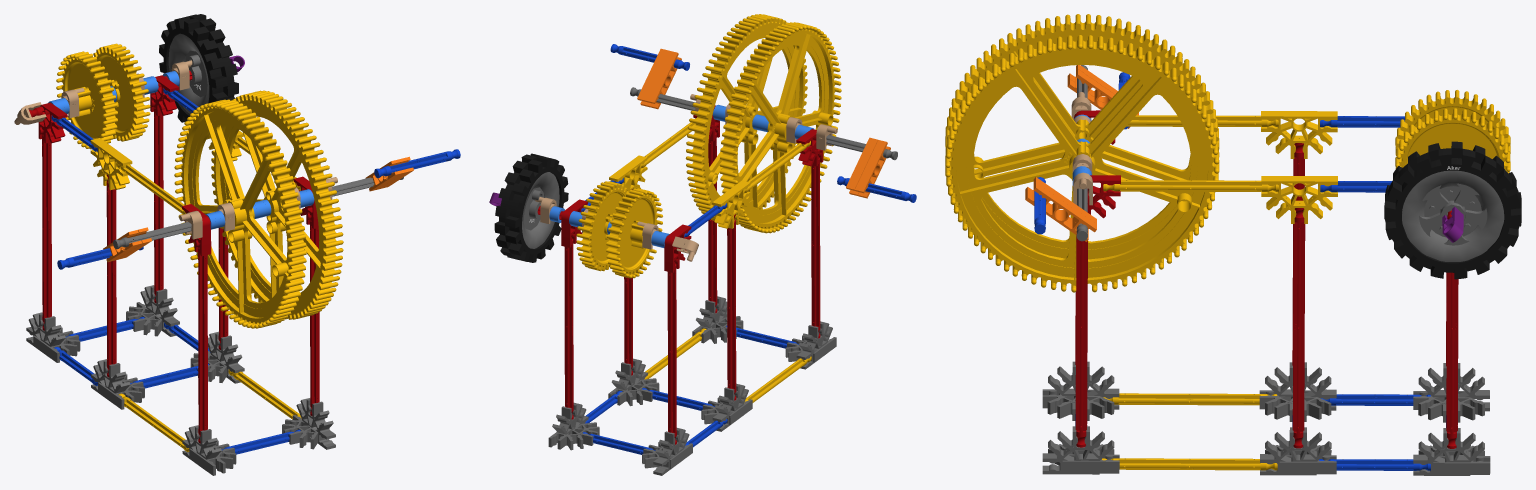
3 views of the same model, side by side, from view 1: azimuth 30°, elevation 25°; view 2: azimuth 150°, elevation 25°; view 3: azimuth 270°, elevation 25° (orthographic). The views are drawn at different scales.
Visible parts, largest first — view 1: P3_L18.003; view 2: P3_L18.003; view 3: P3_L18.003.
Boxes of the visible parts, x1,y1,x2,y2 form: P3_L18.003: [14, 14, 460, 475]; P3_L18.003: [489, 14, 916, 475]; P3_L18.003: [945, 14, 1521, 475].
Bounding box in the file's own units: 2.32 × 2.12 × 2.69.
